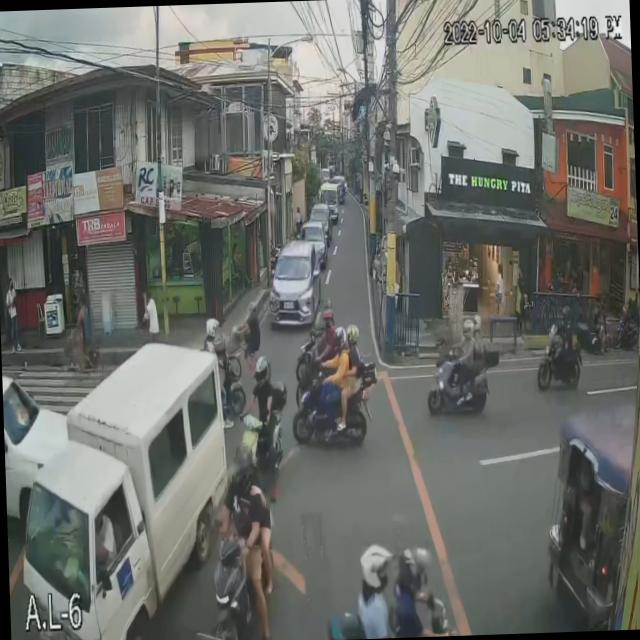full: (228, 455, 248, 494), (253, 356, 270, 388), (332, 325, 345, 351), (462, 318, 474, 340), (472, 310, 482, 332)
half: (356, 542, 393, 594), (398, 542, 432, 596), (345, 319, 360, 347)
